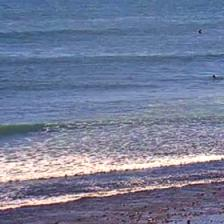surfer: (212, 74, 217, 78), (198, 30, 202, 34)
